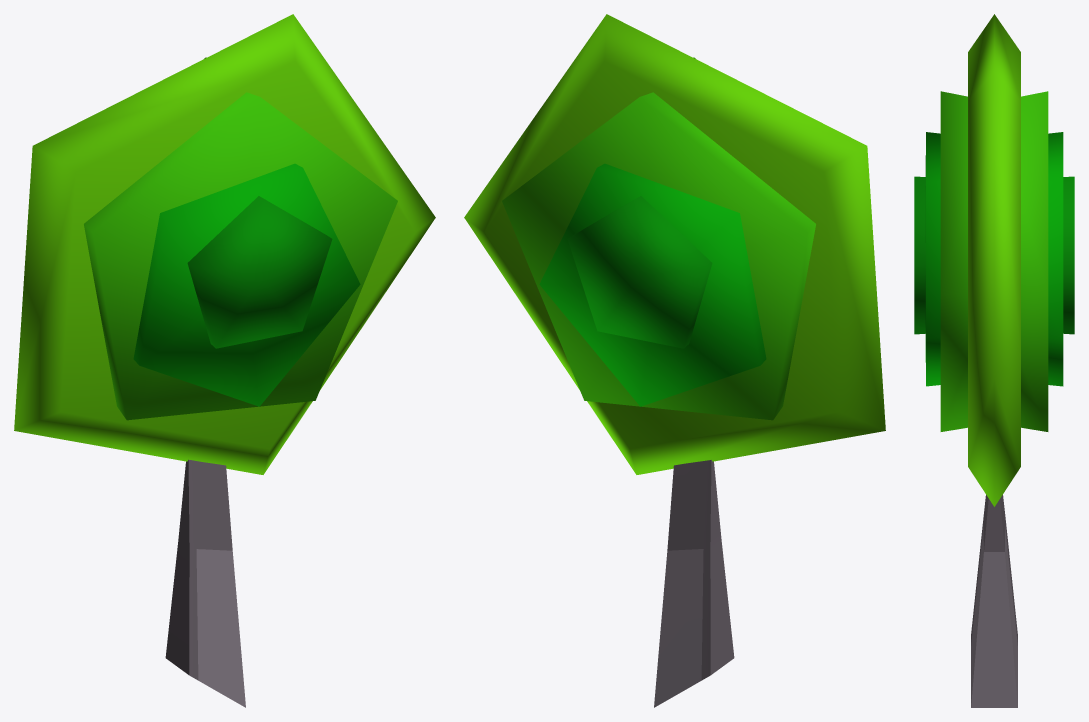
Rendered from treeMesh.fbx.
3 views of the same model, side by side, from view 1: azimuth 30°, elevation 25°; view 2: azimuth 150°, elevation 25°; view 3: azimuth 270°, elevation 25° (orthographic).
Parts seen in each view (by area): view 1: crown; view 2: crown; view 3: crown.
Boxes of the visible parts, x1,y1,x2,y2 form: crown: [14, 14, 435, 707]; crown: [464, 14, 885, 707]; crown: [914, 14, 1074, 707].
Size of the model in its own units: 2.47 by 3.75 by 0.8199.
